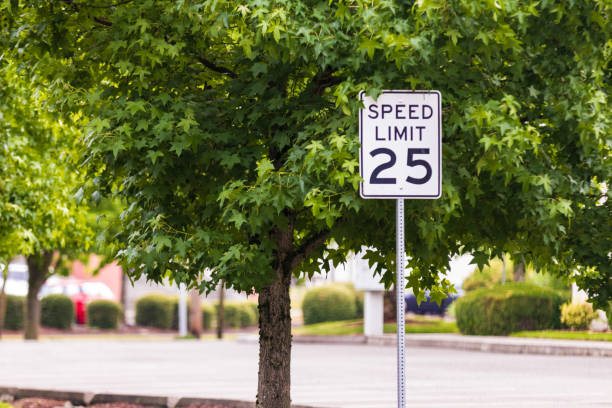SpeedLimitSign: (358, 90, 442, 198)
